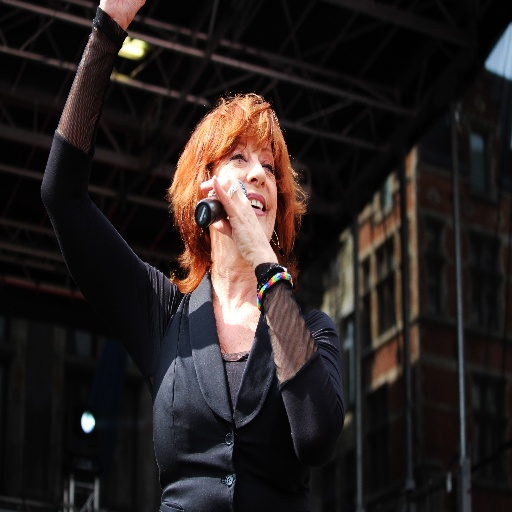hand: (23, 0, 152, 348), (199, 172, 272, 261), (99, 0, 147, 31)
